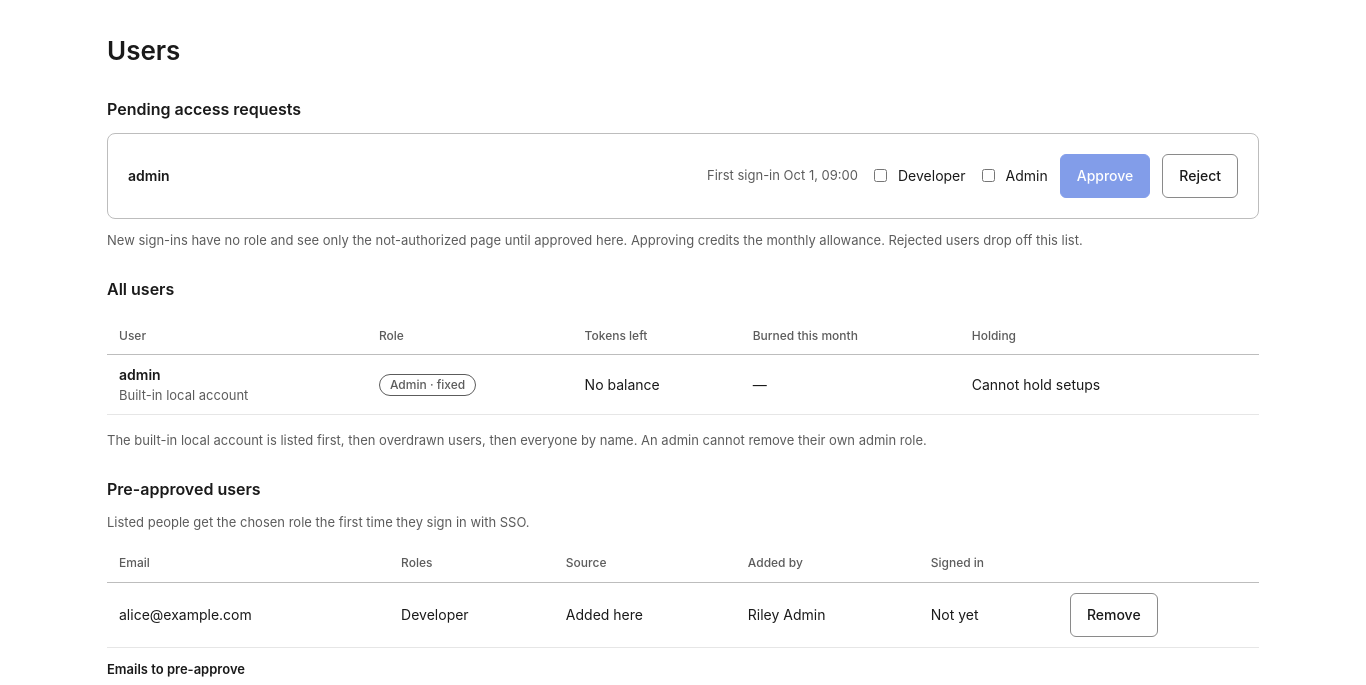
it: UI-11 removing a database entry › UI-11 Cancel sends nothing
What coordinates should you click on to do the following:
click the button with aria-label "Remove alice@example.com"
I would click on:
 (1114, 615)
Its box is [1070, 593, 1158, 637].
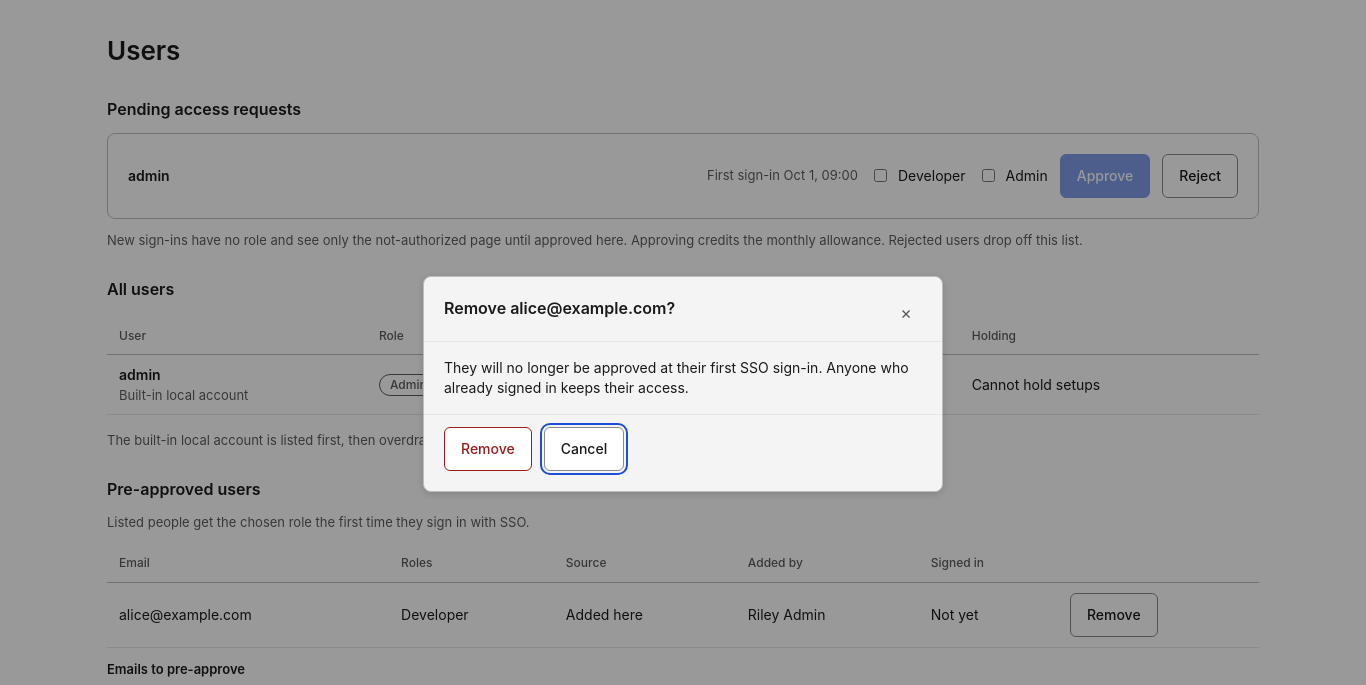
What coordinates should you click on to do the following:
click the button "Cancel"
I would click on:
 (584, 449)
Its box is [544, 427, 624, 471].
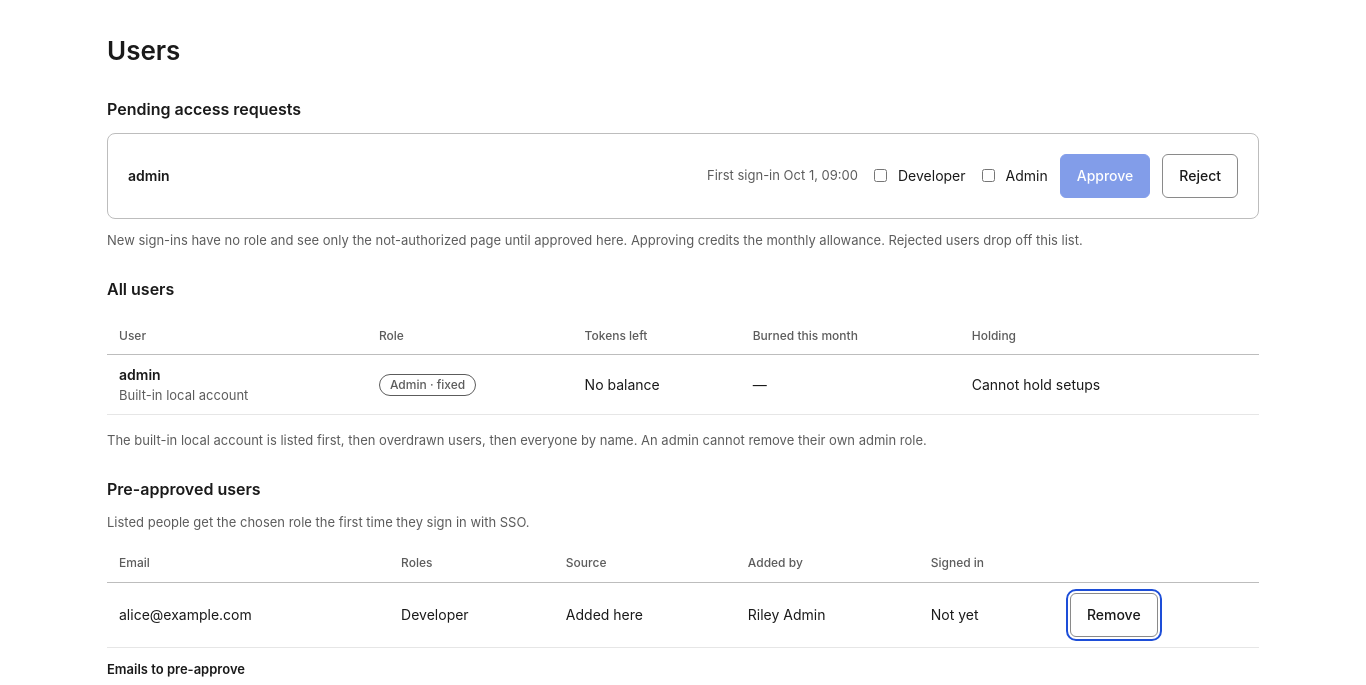
Check: the dialog is gone
